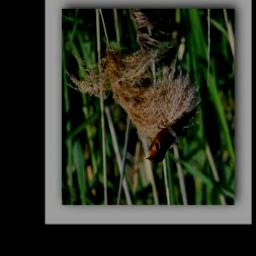Swallow: (143, 105, 202, 166)
